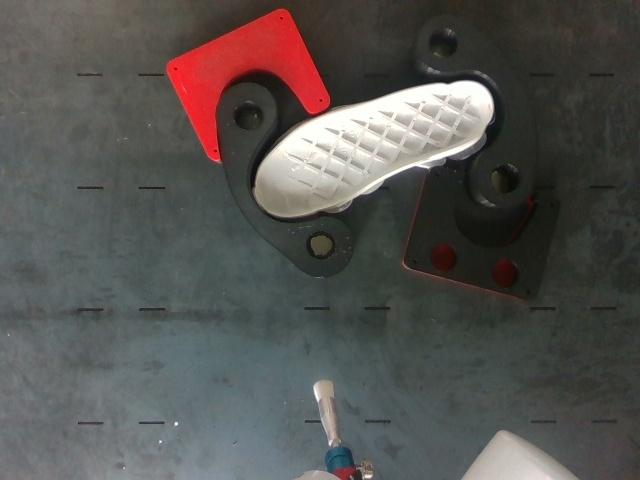shoes: (254, 83, 492, 218)
